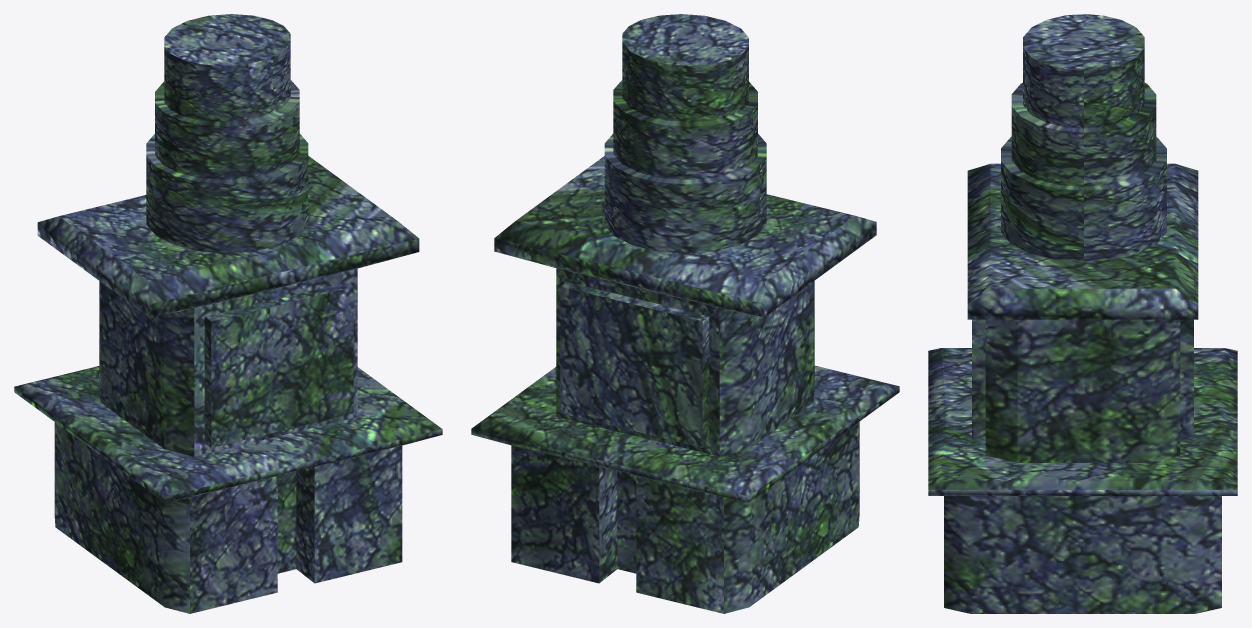
Rendered from shrine.FBX.
3 views of the same model, side by side, from view 1: azimuth 30°, elevation 25°; view 2: azimuth 150°, elevation 25°; view 3: azimuth 270°, elevation 25° (orthographic). The views are drawn at different scales.
Visible parts, largest first — view 1: Shrine; view 2: Shrine; view 3: Shrine.
Part boxes in pixels (x1,y1,x2,y2): Shrine: (14, 14, 442, 613); Shrine: (471, 14, 899, 613); Shrine: (928, 14, 1237, 613).
Size of the model in its own units: 235 by 403 by 221.
